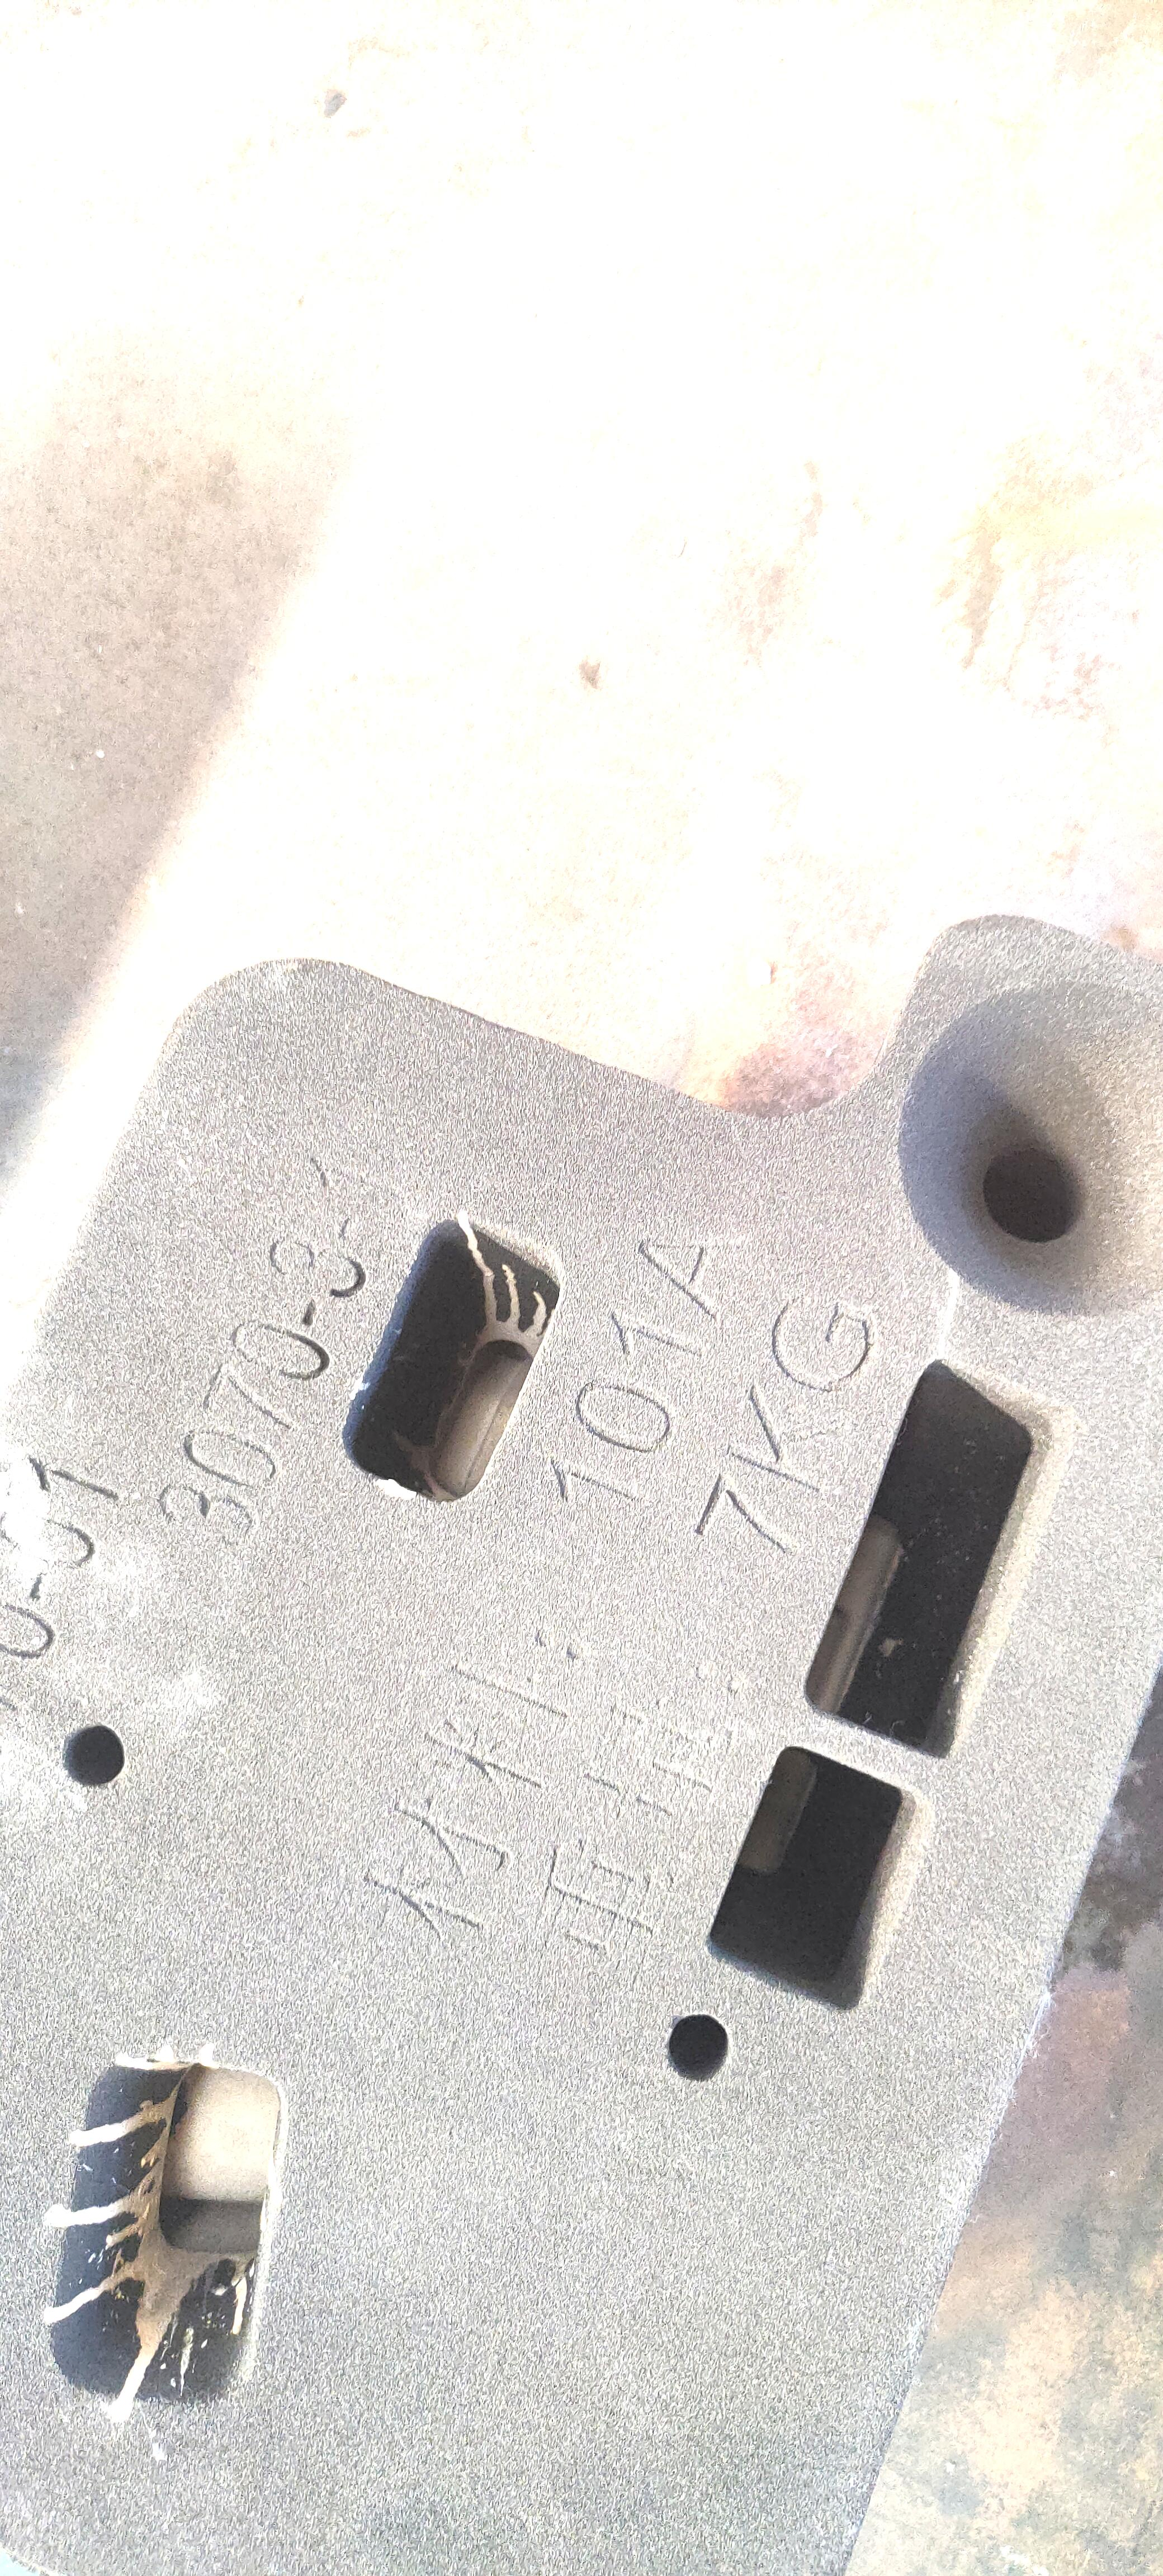pouring hole: (900, 986, 1163, 1314)
